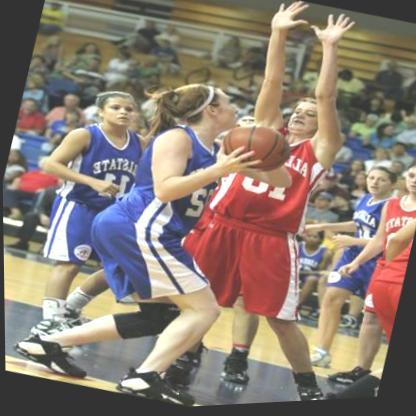basketball: (214, 116, 296, 183)
